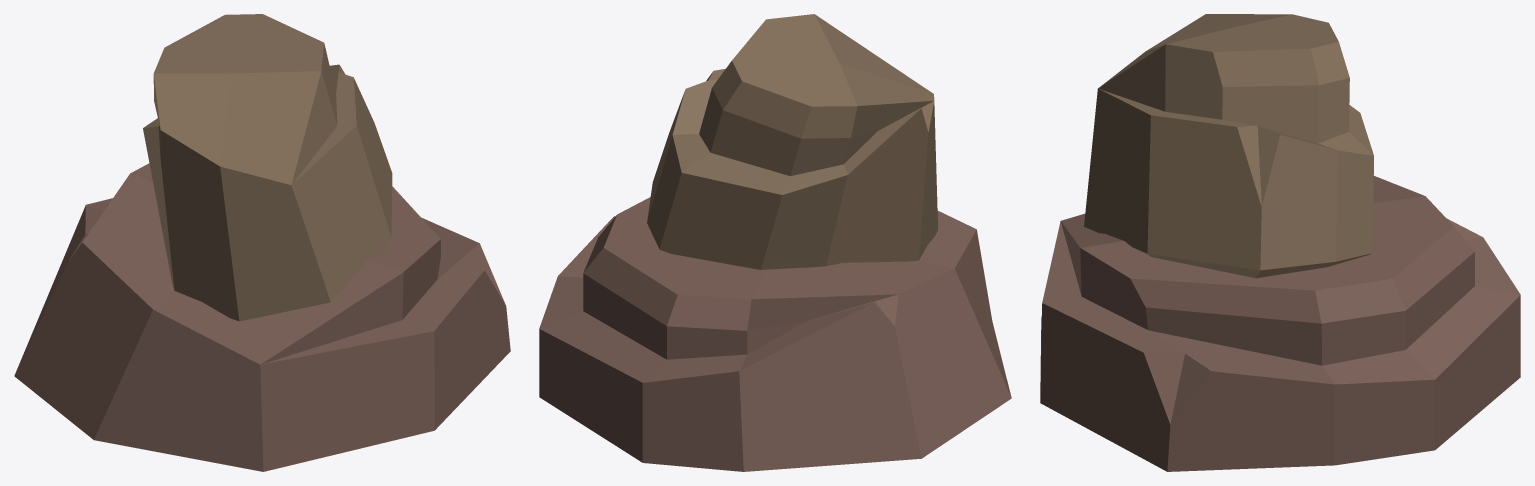
File: stone_3.fbx
3 renders of one model, left to right at view 1: azimuth 30°, elevation 25°; view 2: azimuth 150°, elevation 25°; view 3: azimuth 270°, elevation 25°, orthographic. The views are drawn at different scales.
Visible parts, largest first — view 1: Cube.005; view 2: Cube.005; view 3: Cube.005.
Boxes of the visible parts, x1=… form: Cube.005: x1=14, y1=14, x2=510, y2=471; Cube.005: x1=539, y1=14, x2=1011, y2=471; Cube.005: x1=1040, y1=14, x2=1520, y2=471.
Size of the model in its own units: 2678 by 2270 by 2710.
